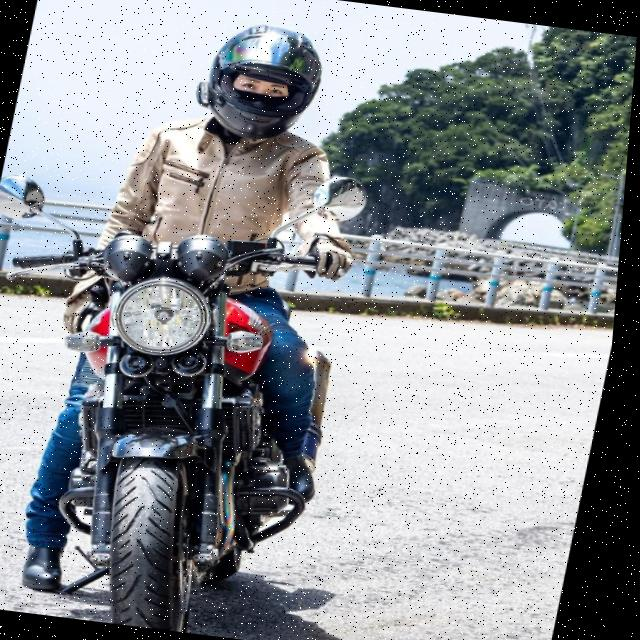helmet: (192, 16, 337, 150)
